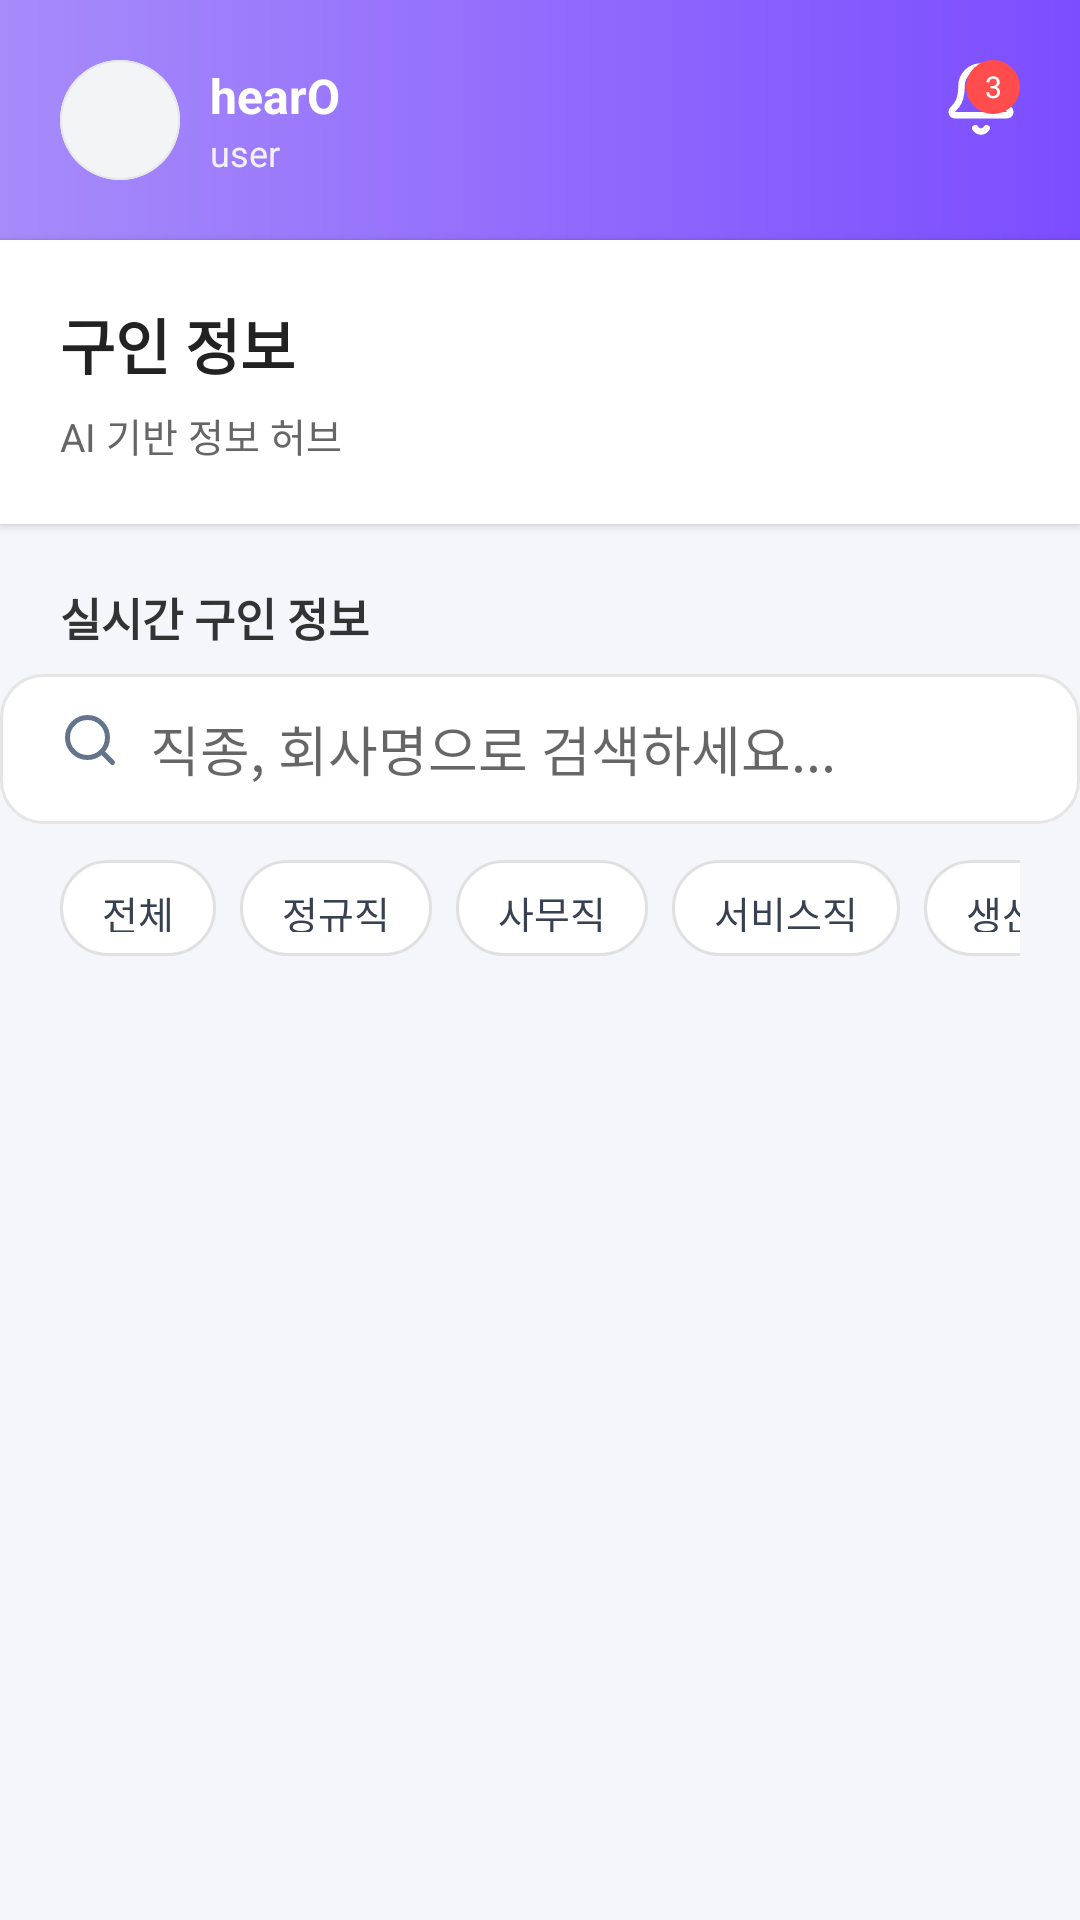

Locate icon controls on the screen. Image size 1080×1920, boxes as (x1, y1, x2, y2).
alarm: (948, 60, 1020, 135)
search: (65, 715, 115, 765)
